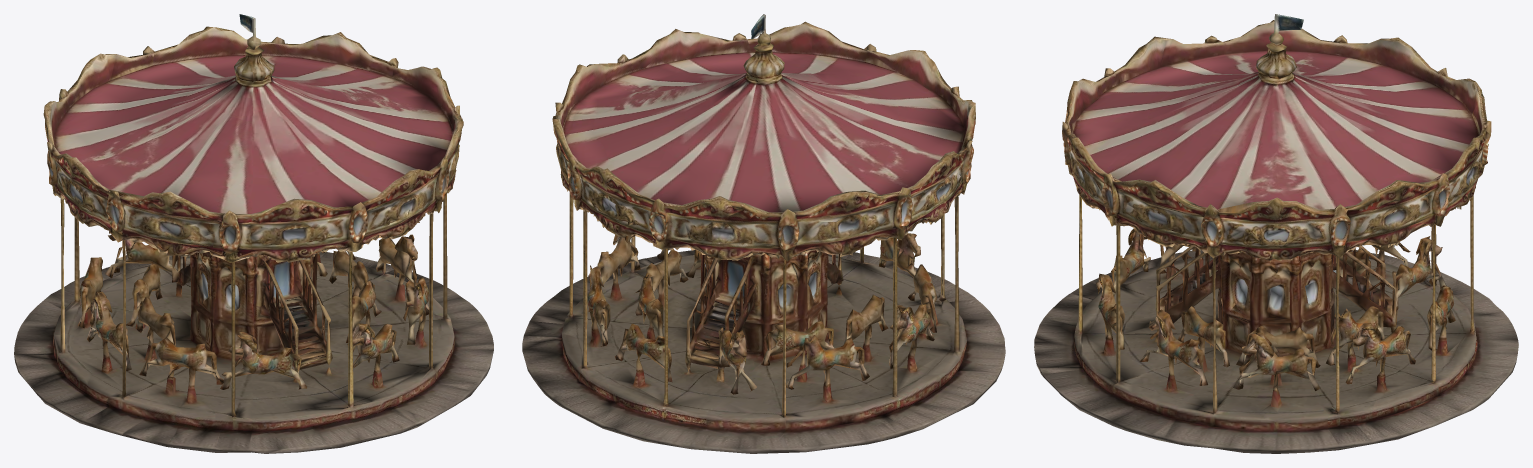
The model's file is pier_carousel_pavilion.glb.
The picture shows the model from 3 angles, left to right: view 1: azimuth 30°, elevation 25°; view 2: azimuth 150°, elevation 25°; view 3: azimuth 270°, elevation 25°; orthographic projection.
Visible parts, largest first — view 1: tripo_node_5d52578f-04c8-46f5-989a-cbb2c00a3e30; view 2: tripo_node_5d52578f-04c8-46f5-989a-cbb2c00a3e30; view 3: tripo_node_5d52578f-04c8-46f5-989a-cbb2c00a3e30.
Part boxes in pixels (left/top/right/bottom): tripo_node_5d52578f-04c8-46f5-989a-cbb2c00a3e30: left=14, top=14, right=493, bottom=453; tripo_node_5d52578f-04c8-46f5-989a-cbb2c00a3e30: left=522, top=14, right=1005, bottom=453; tripo_node_5d52578f-04c8-46f5-989a-cbb2c00a3e30: left=1034, top=14, right=1518, bottom=453.
Size of the model in its own units: 0.9976 by 0.7666 by 0.9974.
1 material, 1 textured.
